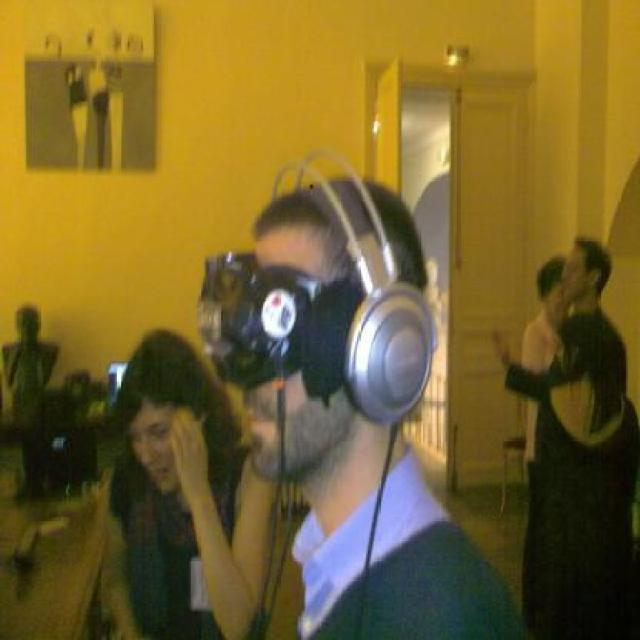earphone: (308, 140, 435, 440)
